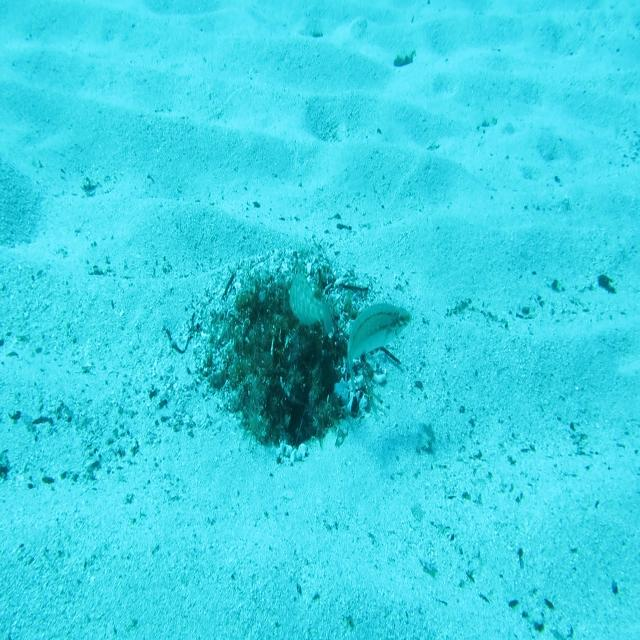NIP_CORE: (285, 258, 335, 339)
core_nest: (258, 296, 315, 332)
female: (345, 294, 413, 398)
nest: (178, 226, 394, 480)
vegetation: (391, 46, 419, 68)
